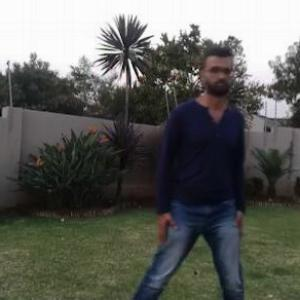follow: (142, 39, 248, 299)
